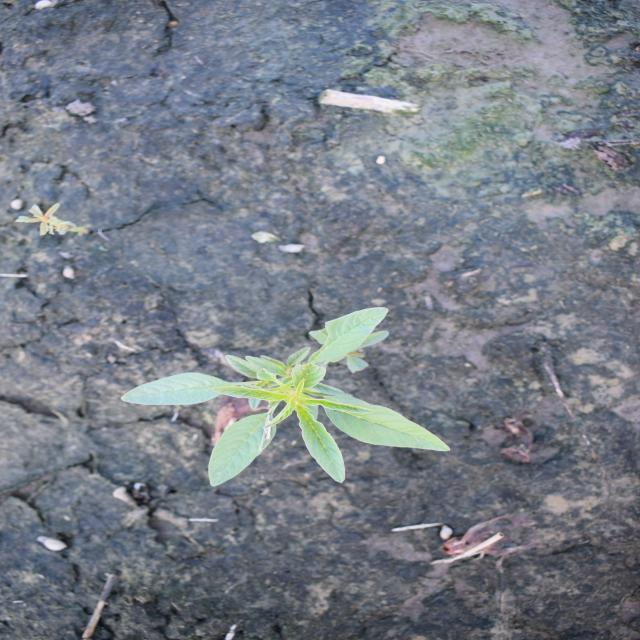Waterhemp: (114, 303, 454, 487)
